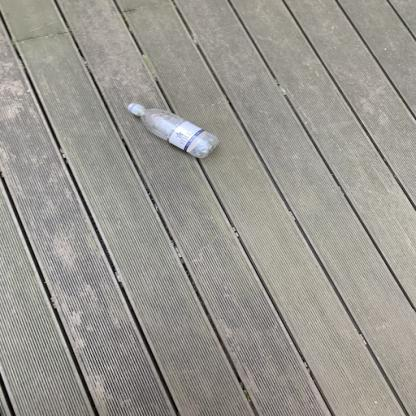trash: (126, 104, 223, 162)
